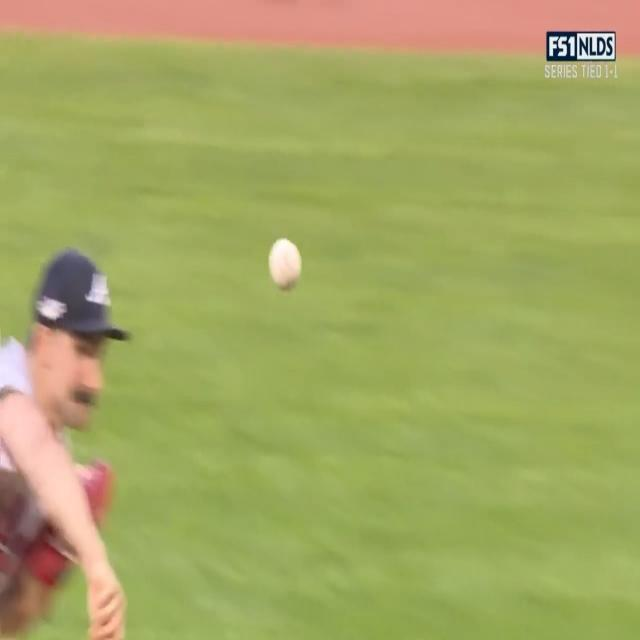baseball: (269, 236, 302, 292)
